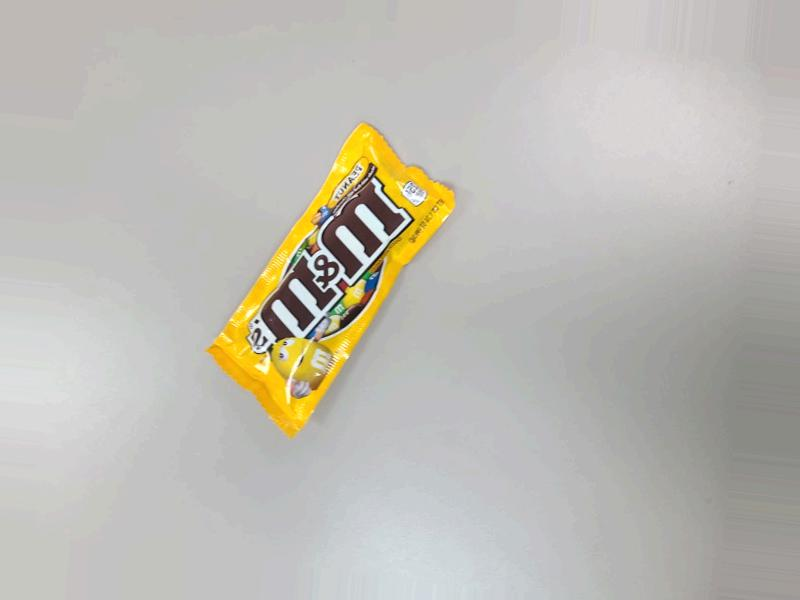m&m: (190, 116, 441, 454)
